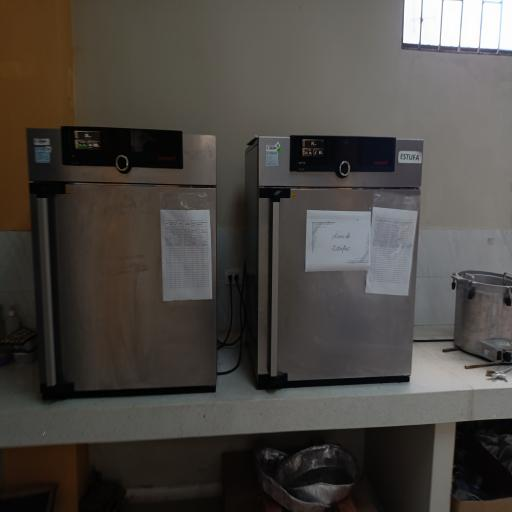Estufa_Memmert: (241, 124, 437, 399)
Memmert_Unidad2: (20, 110, 226, 402)
